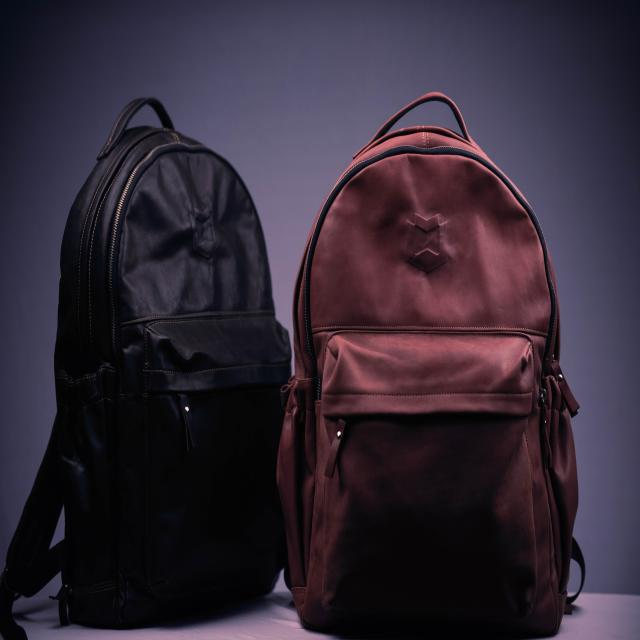backpack: (270, 94, 587, 636), (11, 95, 292, 625)
